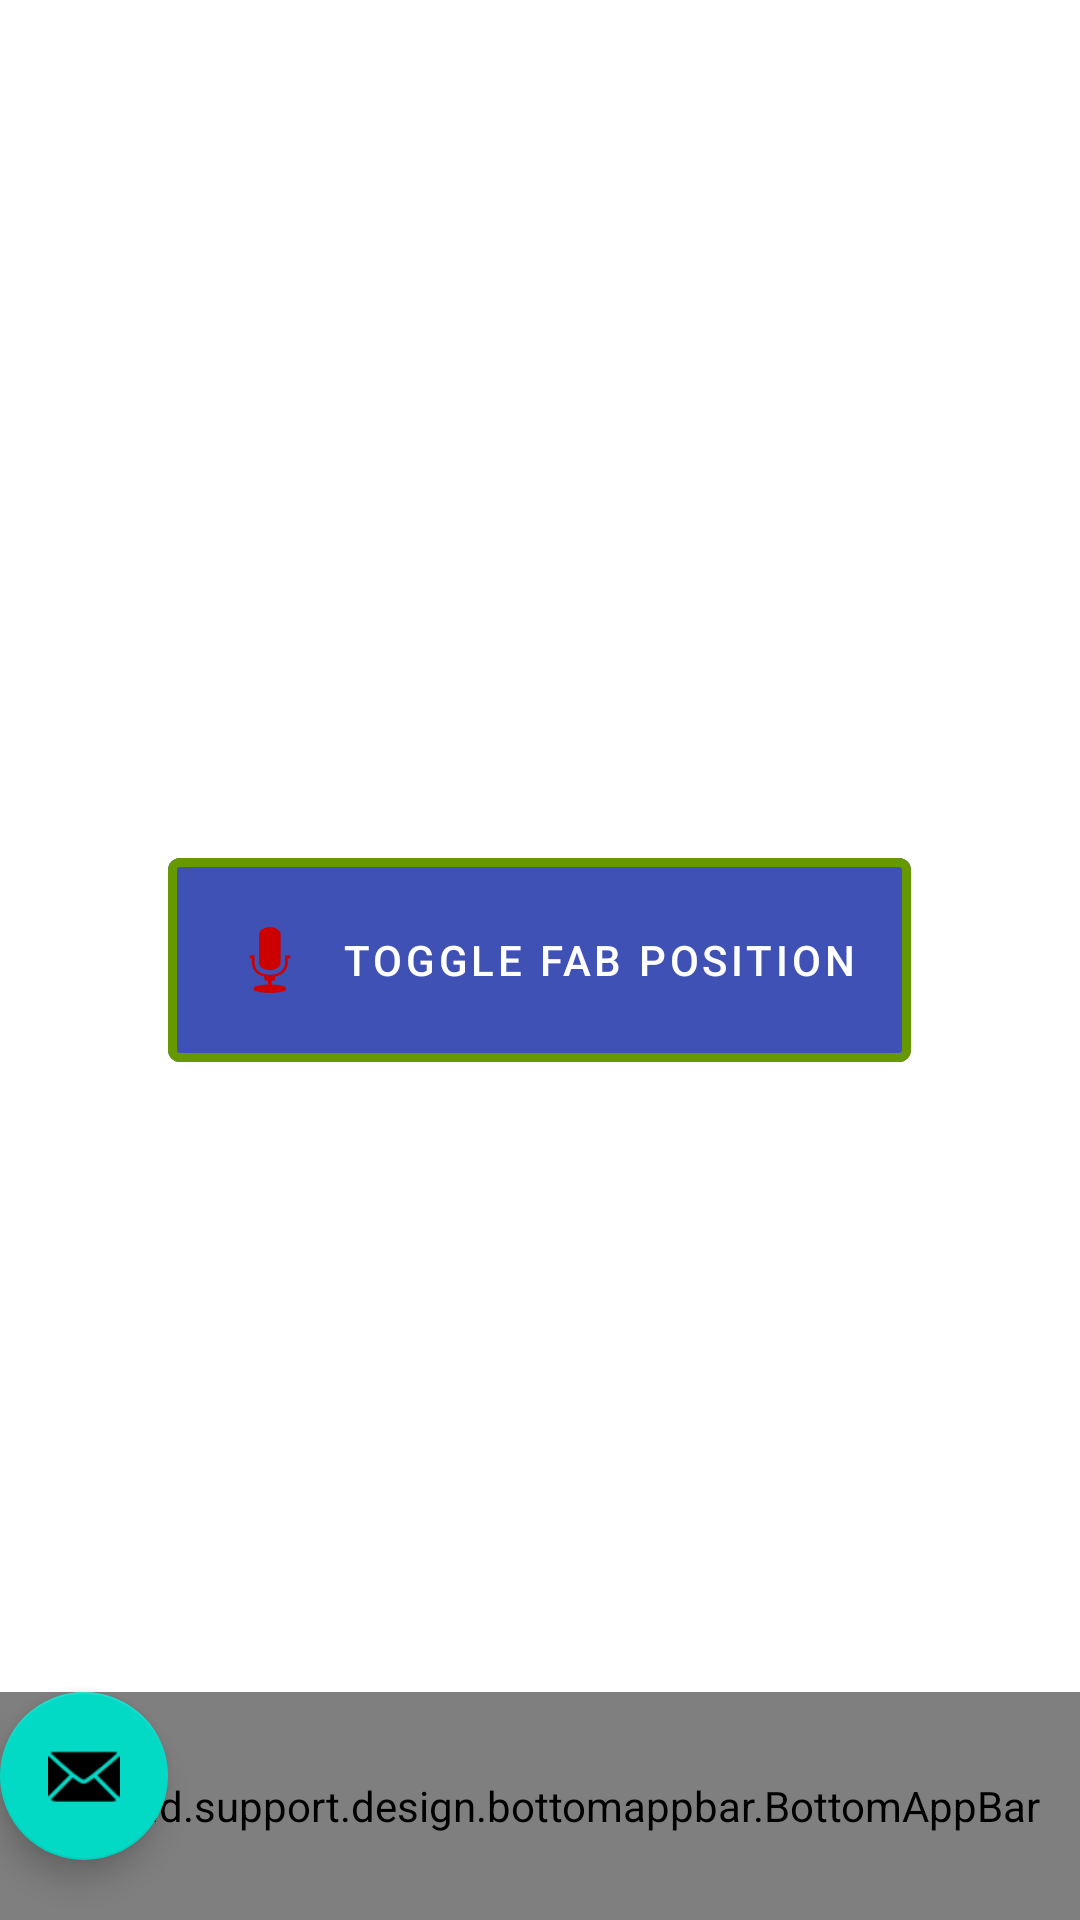

Named icons in this screenshot (1080px×1920px) and their bounding boxes, (x1, y1, x2, y2):
email: (0, 1692, 168, 1860)
